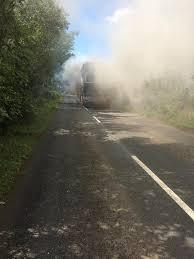smoke: (63, 0, 194, 107)
